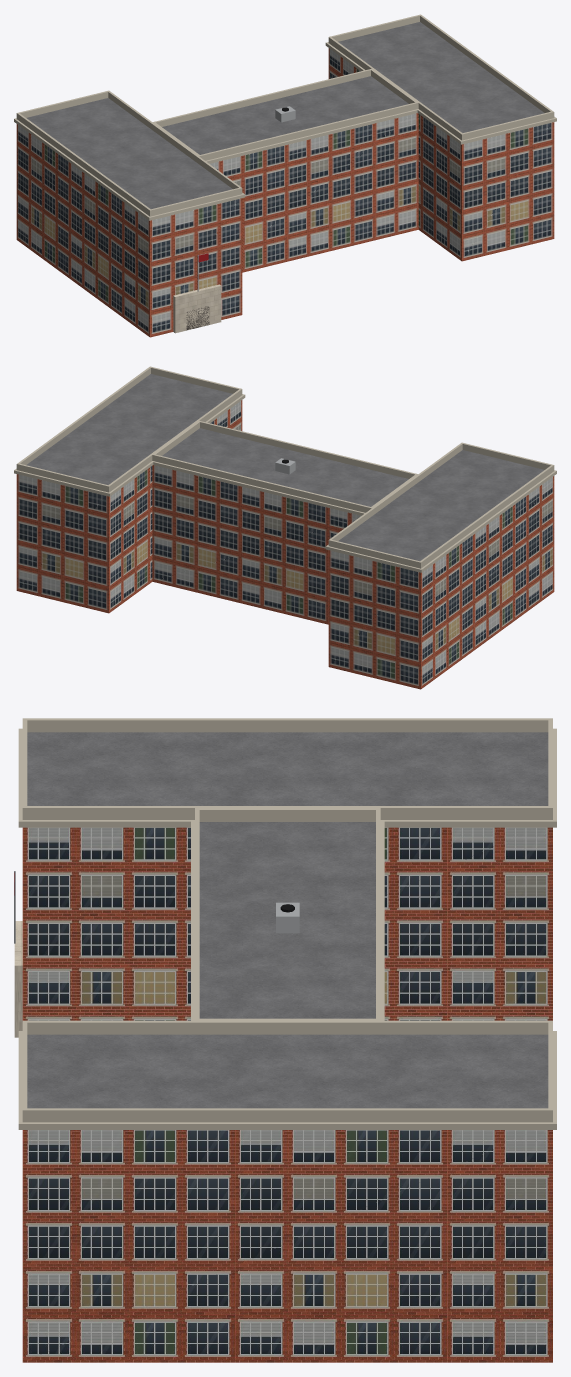
The model's file is 077_school_h.glb.
3 renders of one model, top to bottom at view 1: azimuth 30°, elevation 25°; view 2: azimuth 150°, elevation 25°; view 3: azimuth 270°, elevation 25°, orthographic. The views are drawn at different scales.
Parts seen in each view (by area): view 1: 077_school_h; view 2: 077_school_h; view 3: 077_school_h.
Part boxes in pixels (left/top/right/bottom): 077_school_h: left=14, top=14, right=556, bottom=337; 077_school_h: left=14, top=366, right=556, bottom=689; 077_school_h: left=14, top=718, right=556, bottom=1362.
Bounding box in the file's own units: 70.6 × 21.6 × 40.96.
Materials: 9 (3 with a texture image).
